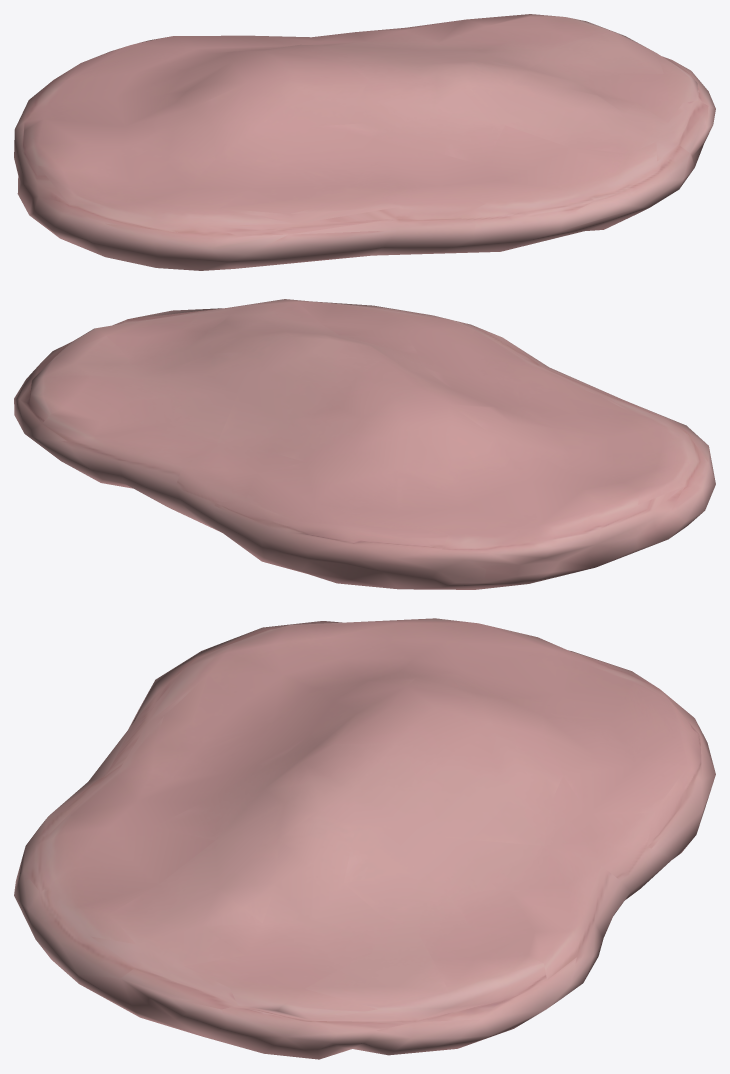
File: epithelial.glb
The picture shows the model from 3 angles, top to bottom: view 1: azimuth 30°, elevation 25°; view 2: azimuth 150°, elevation 25°; view 3: azimuth 270°, elevation 25°; orthographic projection. The views are drawn at different scales.
Parts seen in each view (by area): view 1: epithelial; view 2: epithelial; view 3: epithelial.
Part boxes in pixels (x1,y1,x2,y2): epithelial: (14, 14, 715, 270); epithelial: (14, 299, 715, 589); epithelial: (14, 618, 715, 1059).
Bounding box in the file's own units: 3.16 × 0.4872 × 2.36.
1 material, 1 textured.
